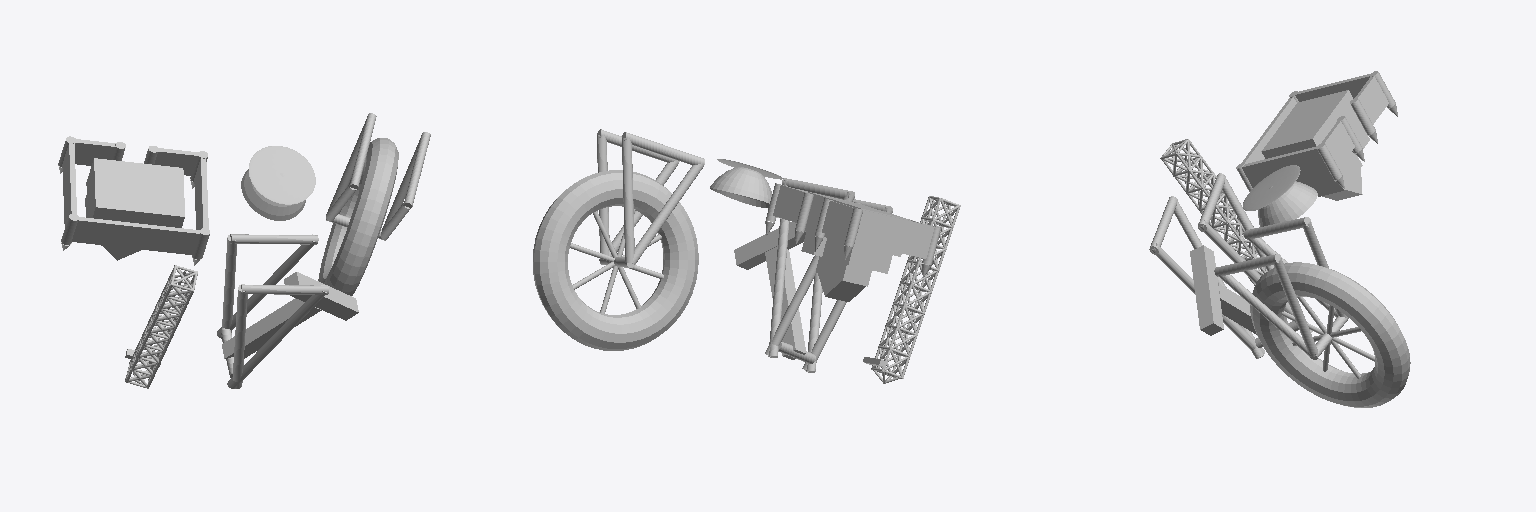
The model's file is Map-6.obj.
3 views of the same model, side by side, from view 1: azimuth 30°, elevation 25°; view 2: azimuth 150°, elevation 25°; view 3: azimuth 270°, elevation 25° (orthographic).
Visible parts, largest first — view 1: Torus, Cube.008, Cube.007, Sphere.001, Cube.001, Cube.002, Sphere, Cylinder.320, Cylinder.321, Cylinder.325, Cube.006, Cylinder.322 (+7 smaller); view 2: Torus, Cube.006, Cube.012, Sphere, Cube.001, Cylinder.322, Cylinder.004, Cube.002, Cylinder, Cylinder.325, Cube.008, Cube.010 (+7 smaller); view 3: Torus, Cube.008, Cube.002, Cube.005, Sphere, Sphere.001, Cylinder.005, Cube.012, Cylinder.008, Cube.001, Cylinder.320, Cube.006 (+10 smaller).
Part boxes in pixels (bbox=[...]): Torus: bbox=[318, 138, 398, 295]; Cube.008: bbox=[86, 158, 184, 227]; Cube.007: bbox=[72, 217, 200, 254]; Sphere.001: bbox=[249, 146, 315, 204]; Cube.001: bbox=[222, 298, 321, 359]; Cube.002: bbox=[284, 272, 358, 320]; Sphere: bbox=[241, 169, 305, 220]; Cylinder.320: bbox=[227, 285, 326, 388]; Cylinder.321: bbox=[233, 284, 247, 388]; Cylinder.325: bbox=[222, 235, 236, 332]; Cube.006: bbox=[62, 143, 76, 226]; Cylinder.322: bbox=[217, 234, 315, 338]; Torus: bbox=[533, 170, 698, 350]; Cube.006: bbox=[855, 210, 934, 258]; Cube.012: bbox=[816, 238, 871, 301]; Sphere: bbox=[710, 167, 771, 208]; Cube.001: bbox=[765, 246, 806, 359]; Cylinder.322: bbox=[768, 180, 789, 357]; Cylinder.004: bbox=[622, 138, 634, 262]; Cube.002: bbox=[734, 222, 805, 269]; Cylinder: bbox=[632, 163, 702, 264]; Cylinder.325: bbox=[765, 192, 854, 357]; Cube.008: bbox=[805, 192, 910, 256]; Cube.010: bbox=[836, 242, 892, 273]; Torus: bbox=[1250, 262, 1410, 407]; Cube.008: bbox=[1261, 90, 1361, 158]; Cube.002: bbox=[1190, 245, 1223, 335]; Cube.005: bbox=[1242, 146, 1331, 187]; Sphere: bbox=[1258, 181, 1317, 226]; Sphere.001: bbox=[1243, 165, 1300, 210]; Cylinder.005: bbox=[1218, 275, 1310, 356]; Cube.012: bbox=[1316, 152, 1362, 200]; Cylinder.008: bbox=[1274, 258, 1317, 356]; Cube.001: bbox=[1218, 283, 1256, 334]; Cylinder.320: bbox=[1151, 243, 1264, 357]; Cube.006: bbox=[1295, 74, 1369, 101].
Size of the model in its own units: 2.47 by 1.54 by 1.55.